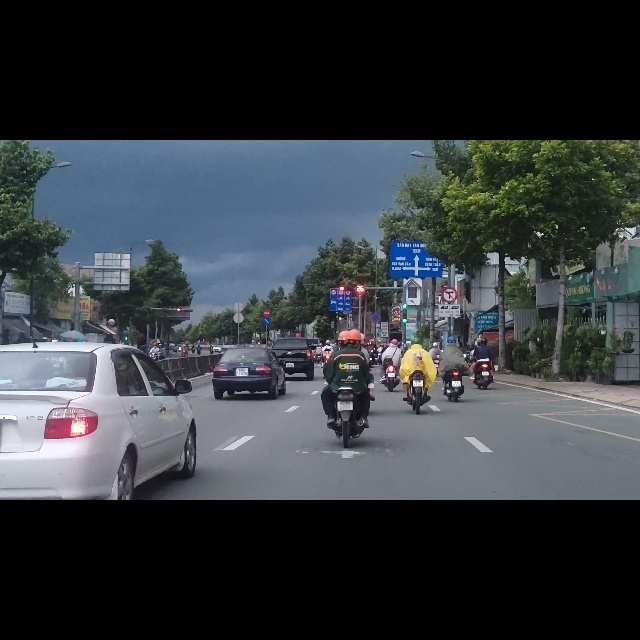bien_cam: (330, 274, 352, 305), (442, 260, 458, 289), (371, 308, 380, 323), (263, 301, 271, 314), (263, 316, 270, 328)
